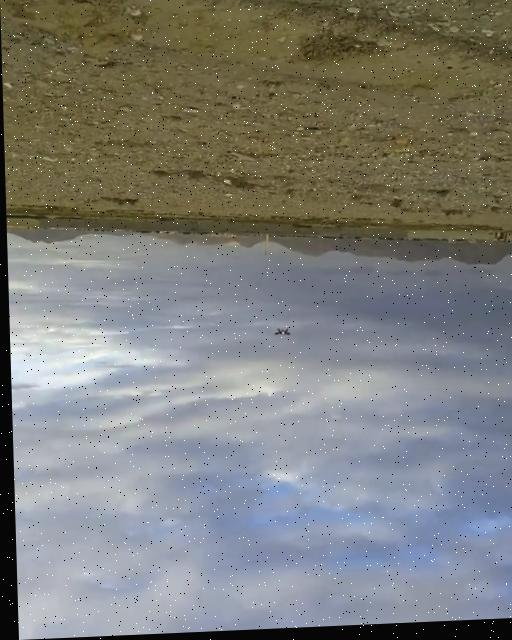drone: (269, 327, 291, 344)
